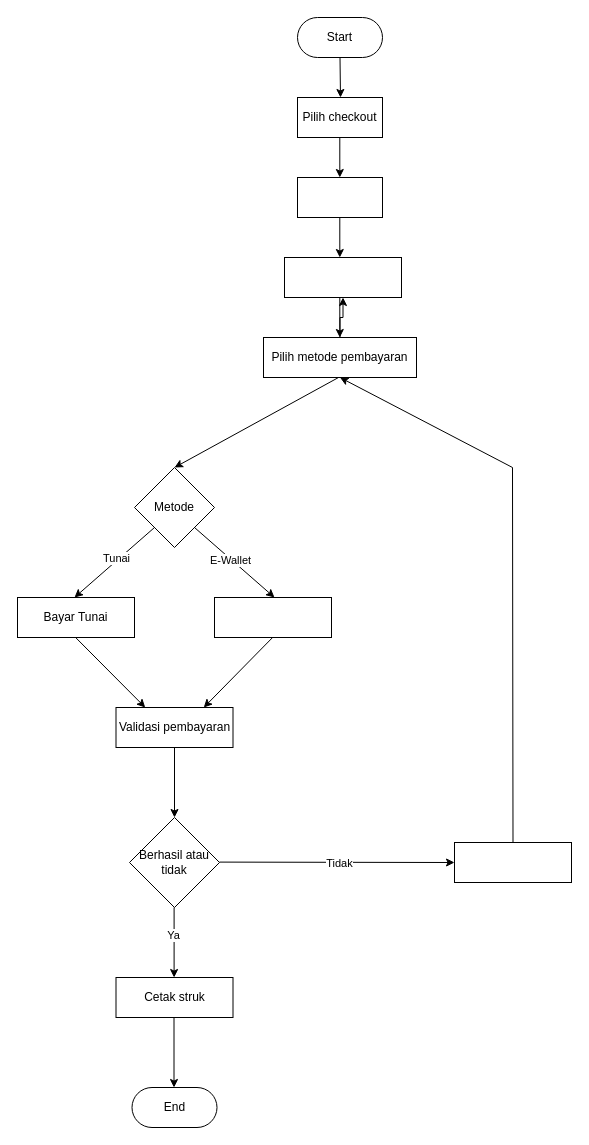
This 589x1145 diagram has some shape labels left out. Here are the shapes that lost their labels. From the top down, the box of each, then its label:
(296, 176, 382, 218): Hitung total
(284, 256, 402, 298): Tampilkan total
(214, 596, 332, 638): Bayar E-Wallet
(454, 842, 572, 882): Pembayaran tidak berhasil
